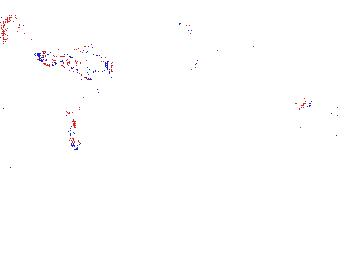X-ray fish: (59, 107, 85, 155)
glassfish: (219, 104, 322, 168)
red belly glassfish: (176, 20, 204, 39)
redtail glassfish: (31, 45, 118, 79), (11, 16, 65, 52)
